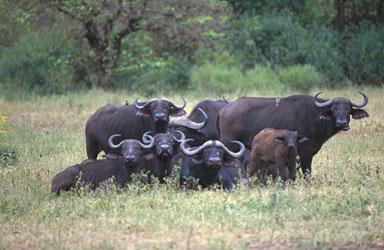Buffalo: (51, 50, 376, 208)
